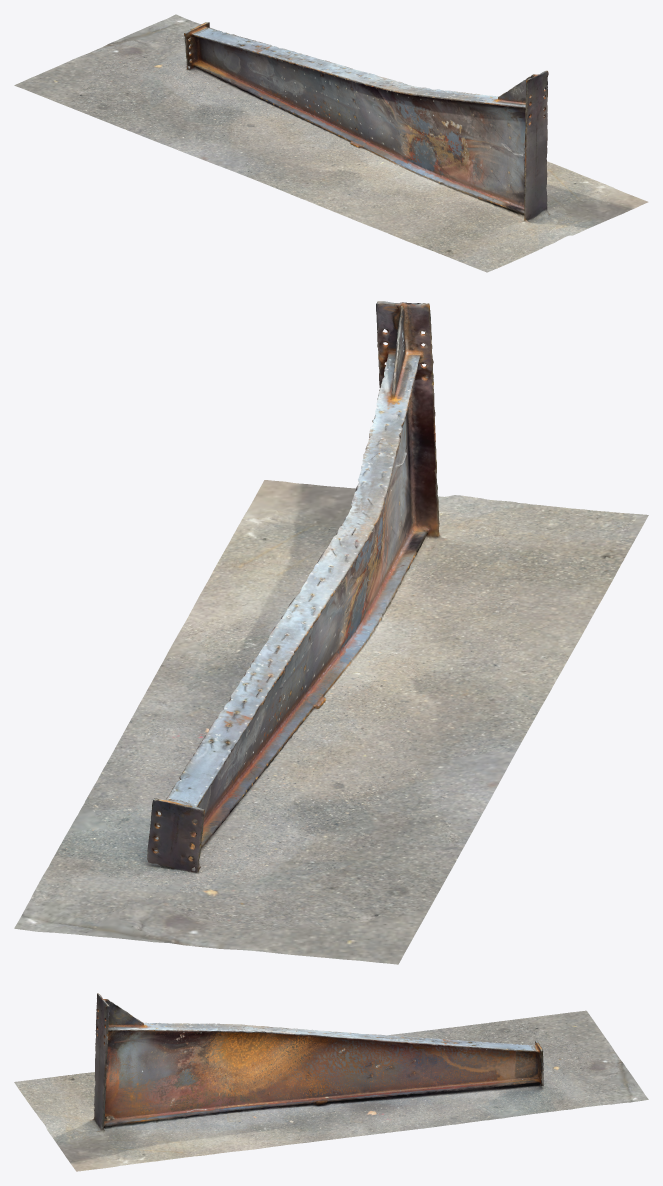
3 views of the same model, one above another, from view 1: azimuth 30°, elevation 25°; view 2: azimuth 150°, elevation 25°; view 3: azimuth 270°, elevation 25° (orthographic). The views are drawn at different scales.
Bounding box in the file's own units: 1.88 × 0.7144 × 3.15.
Materials: 1 (1 with a texture image).
